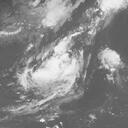cyclone: (22, 38, 80, 95)
